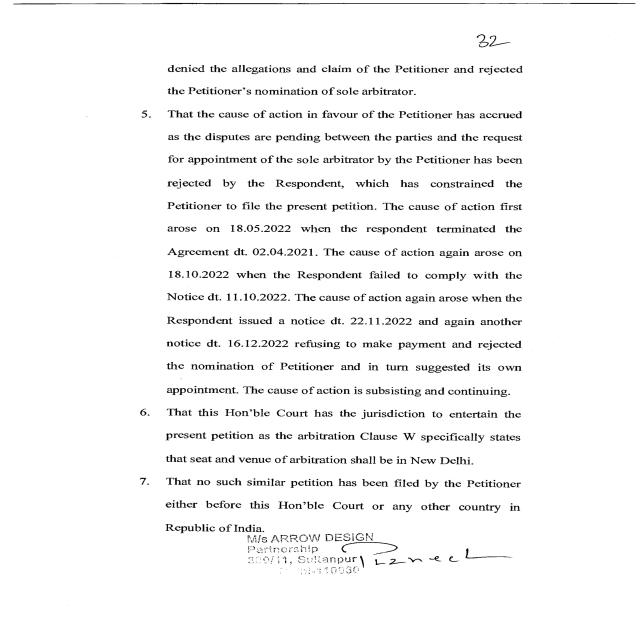page-number: (402, 5, 634, 65)
